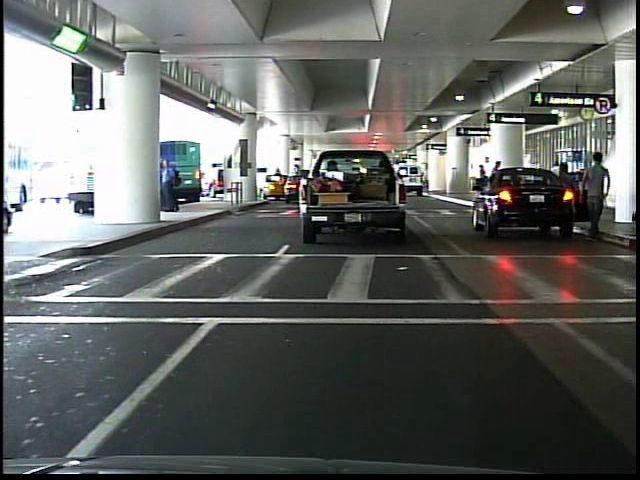person: (574, 149, 615, 243), (159, 149, 184, 216)
